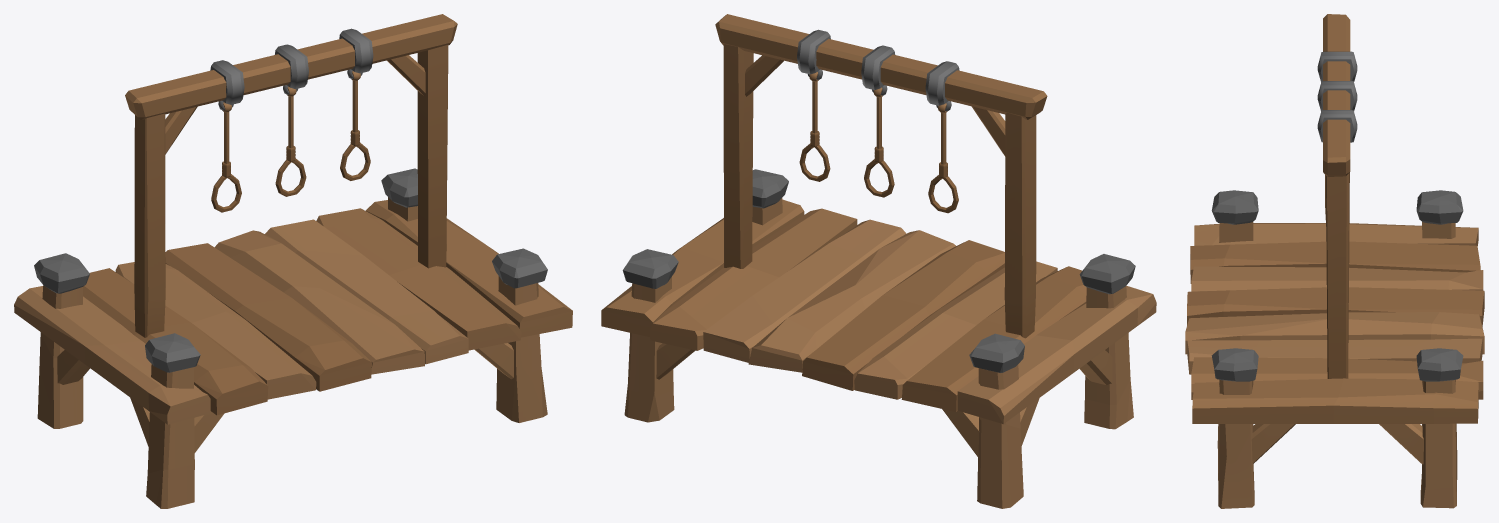
Rendered from Scaffold_A.fbx.
3 renders of one model, left to right at view 1: azimuth 30°, elevation 25°; view 2: azimuth 150°, elevation 25°; view 3: azimuth 270°, elevation 25°, orthographic. The views are drawn at different scales.
Visible parts, largest first — view 1: Scaffold_A; view 2: Scaffold_A; view 3: Scaffold_A.
Part boxes in pixels (x1,y1,x2,y2): Scaffold_A: (14,14,572,508); Scaffold_A: (601,14,1156,508); Scaffold_A: (1185,14,1484,508).
Size of the model in its own units: 452 by 389 by 312.
